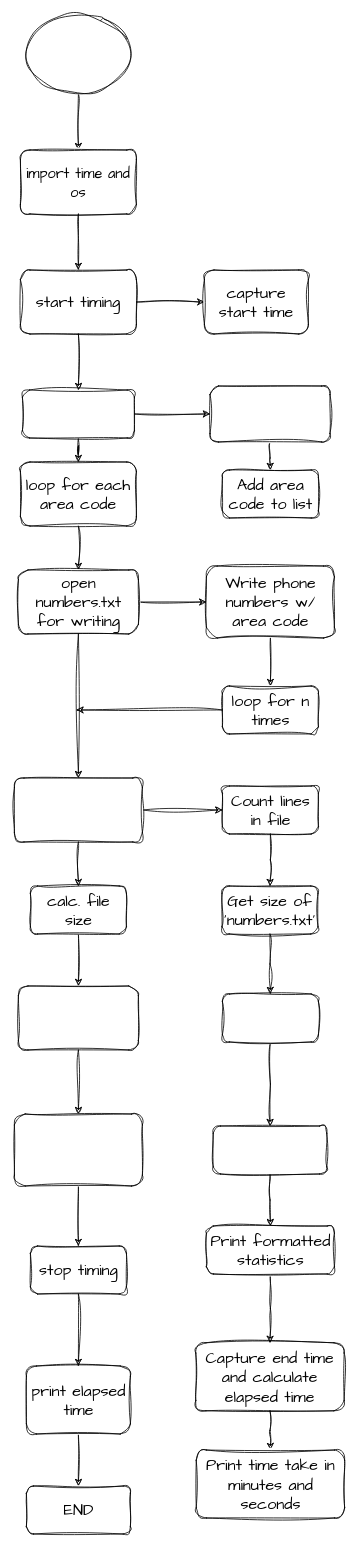
Image size: 358x1548. Some labels were removed from this diagram. Here are the shapes that lost their labels. From the top down, the box of each, then its label:
(26, 13, 130, 94): START
(22, 389, 134, 438): Open 'codes.txt'
(209, 385, 330, 442): read area code line by line
(14, 777, 142, 842): open numbers.txt for reading
(18, 985, 138, 1050): format line count and file size
(222, 993, 318, 1042): Convert size to gigbytes
(14, 1113, 142, 1186): print total line numbers and file size
(212, 1125, 327, 1174): Format output for display
